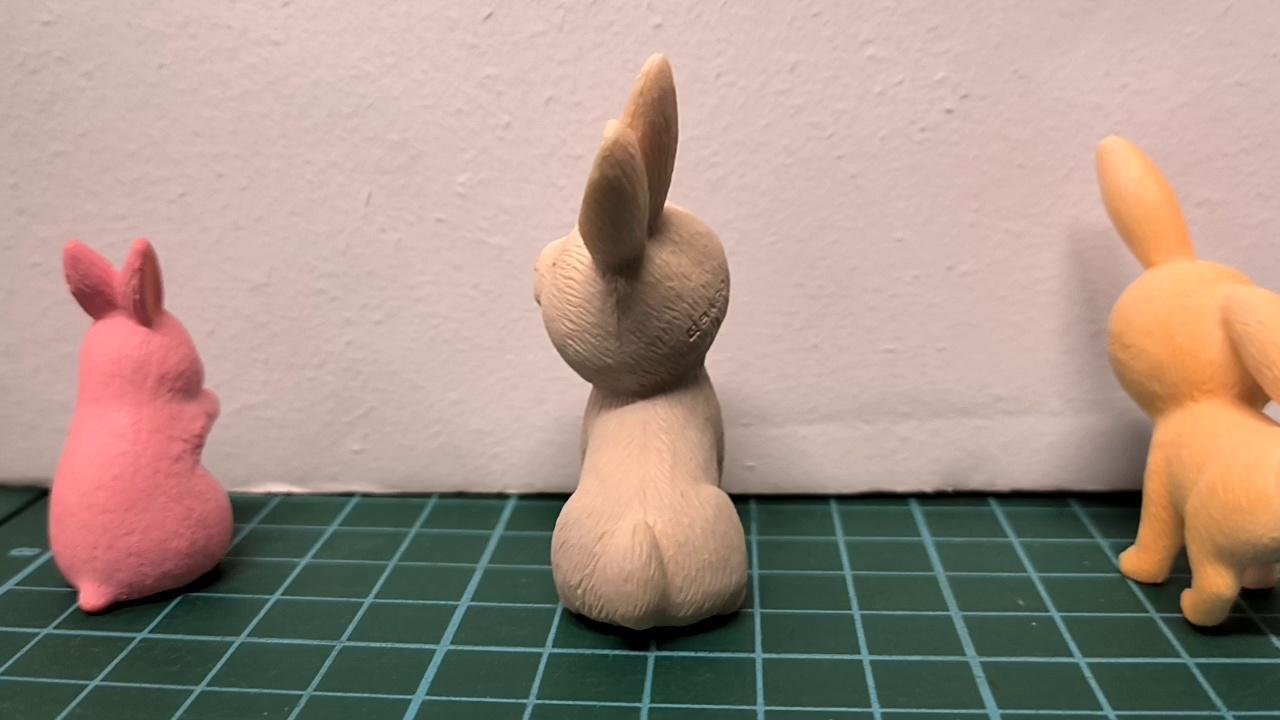pet: (534, 53, 749, 635), (1097, 132, 1280, 626), (47, 235, 236, 614)
